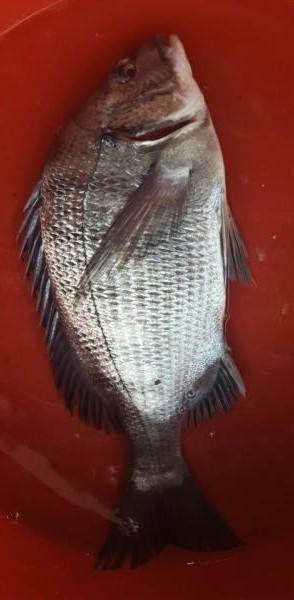fish: (21, 36, 250, 568)
